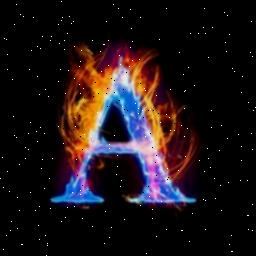a: (72, 55, 182, 185)
